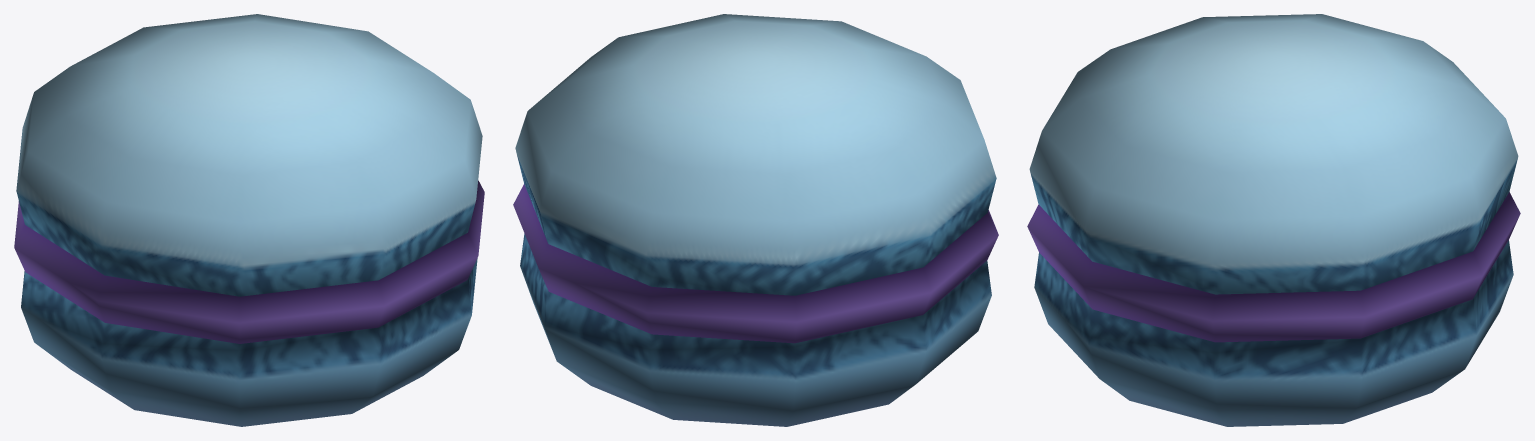
The model's file is 010-Macaron_01.FBX.
3 views of the same model, side by side, from view 1: azimuth 30°, elevation 25°; view 2: azimuth 150°, elevation 25°; view 3: azimuth 270°, elevation 25° (orthographic).
Visible parts, largest first — view 1: 010-Macaron_01; view 2: 010-Macaron_01; view 3: 010-Macaron_01.
Boxes of the visible parts, x1,y1,x2,y2 form: 010-Macaron_01: (14,14,484,426); 010-Macaron_01: (513,14,998,426); 010-Macaron_01: (1027,14,1520,426).
Bounding box in the file's own units: 8.94 × 6.11 × 9.22.
